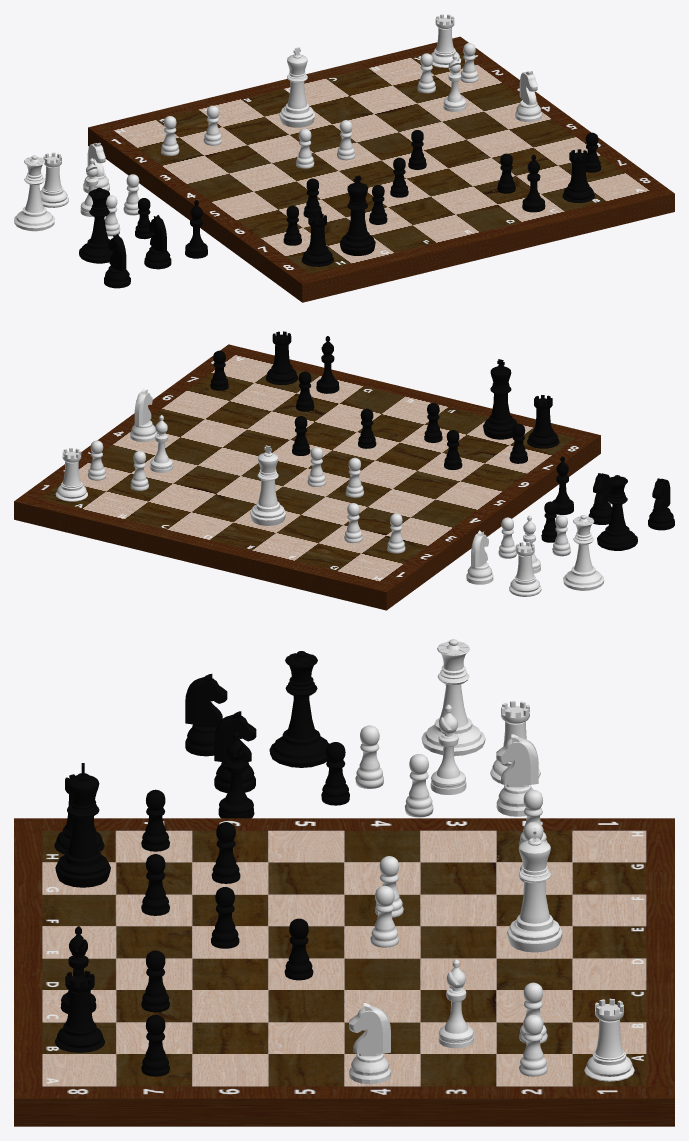
Rendered from ChessBoard.gltf.
3 views of the same model, one above another, from view 1: azimuth 30°, elevation 25°; view 2: azimuth 150°, elevation 25°; view 3: azimuth 270°, elevation 25° (orthographic). The views are drawn at different scales.
Visible parts, largest first — view 1: Cube.001, Cube.002, Cube.016, Cube.012, Cube.006, Cube.004, Cube.021, Cube.009, Cube.024, Cube.022, Cube.033, Cube.036 (+21 smaller); view 2: Cube.001, Cube.016, Cube.012, Cube.006, Cube.002, Cube.009, Cube.021, Cube.033, Cube.004, Cube.024, Cube.034, Cube.036 (+20 smaller); view 3: Cube.001, Cube.002, Cube.016, Cube.006, Cube.012, Cube.036, Cube.021, Cube.034, Cube.033, Cube.024, Cube.022, Cube.025 (+18 smaller).
Boxes of the visible parts, x1=… form: Cube.001: x1=88, y1=36, x2=674, y2=302; Cube.002: x1=340, y1=175, x2=375, y2=255; Cube.016: x1=279, y1=47, x2=315, y2=127; Cube.012: x1=14, y1=155, x2=55, y2=231; Cube.006: x1=79, y1=187, x2=112, y2=263; Cube.004: x1=301, y1=213, x2=333, y2=266; Cube.021: x1=562, y1=149, x2=594, y2=202; Cube.009: x1=40, y1=152, x2=68, y2=207; Cube.024: x1=104, y1=234, x2=130, y2=288; Cube.022: x1=144, y1=215, x2=171, y2=269; Cube.033: x1=431, y1=14, x2=461, y2=67; Cube.036: x1=515, y1=71, x2=542, y2=122; Cube.001: x1=14, y1=344, x2=600, y2=610; Cube.016: x1=250, y1=445, x2=285, y2=525; Cube.012: x1=563, y1=515, x2=604, y2=590; Cube.006: x1=597, y1=475, x2=637, y2=550; Cube.002: x1=483, y1=359, x2=517, y2=439; Cube.009: x1=509, y1=542, x2=541, y2=596; Cube.021: x1=265, y1=331, x2=297, y2=384; Cube.033: x1=55, y1=448, x2=87, y2=501; Cube.004: x1=527, y1=395, x2=559, y2=448; Cube.024: x1=648, y1=478, x2=674, y2=530; Cube.034: x1=466, y1=530, x2=493, y2=584; Cube.036: x1=130, y1=388, x2=156, y2=441; Cube.001: x1=14, y1=818, x2=674, y2=1126; Cube.002: x1=55, y1=763, x2=110, y2=887; Cube.016: x1=507, y1=828, x2=562, y2=952; Cube.006: x1=269, y1=651, x2=329, y2=767; Cube.012: x1=421, y1=639, x2=485, y2=756; Cube.036: x1=349, y1=1003, x2=390, y2=1084; Cube.021: x1=54, y1=970, x2=104, y2=1052; Cube.034: x1=496, y1=734, x2=538, y2=816; Cube.033: x1=584, y1=998, x2=634, y2=1081; Cube.024: x1=185, y1=674, x2=227, y2=756; Cube.022: x1=214, y1=711, x2=256, y2=793; Cube.025: x1=430, y1=704, x2=466, y2=794.
Bounding box in the file's own units: 14.67 × 2.47 × 10.57.
Materials: 3 (3 with a texture image).
